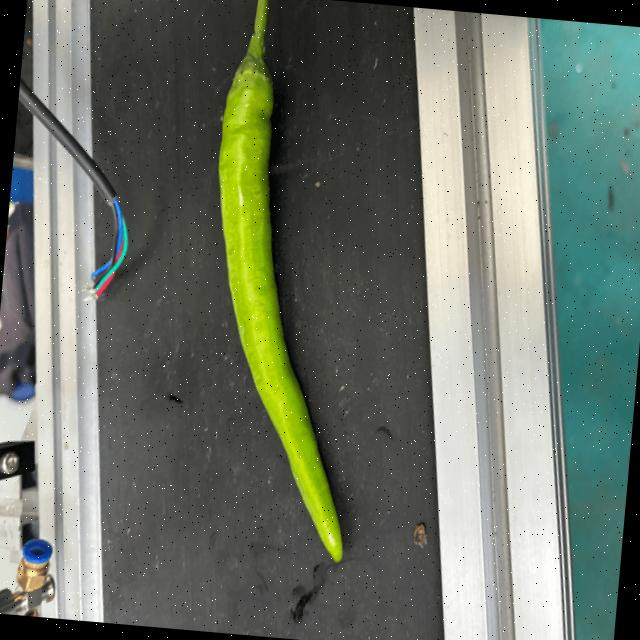chili: (215, 51, 345, 565)
